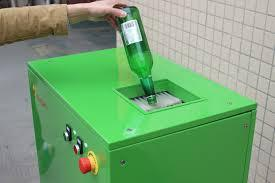Glass bottle: (111, 3, 165, 107)
